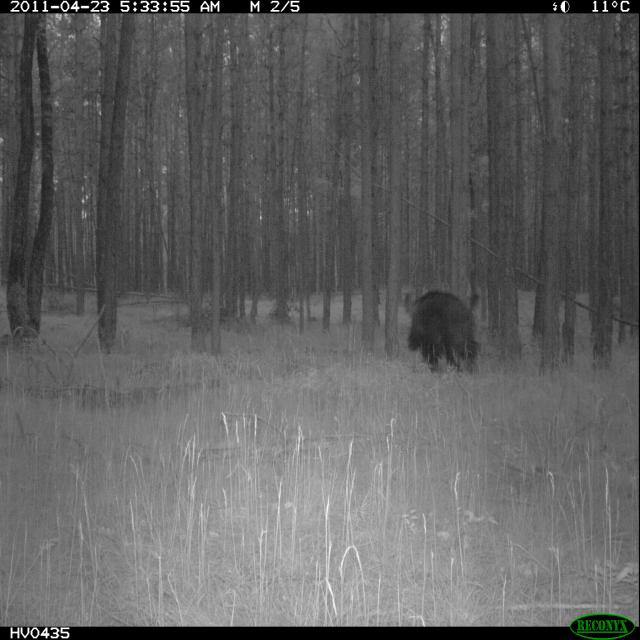boar: (388, 263, 493, 388)
